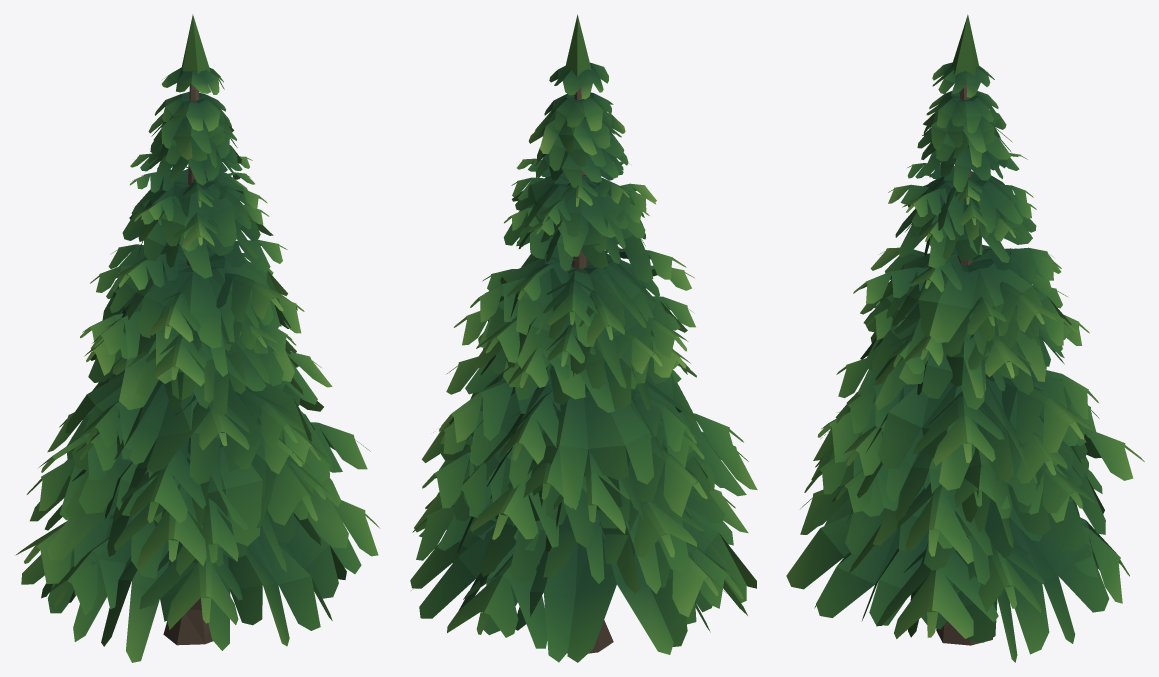
The model's file is spruce_L_normal_std_irregular_s21.glb.
3 renders of one model, left to right at view 1: azimuth 30°, elevation 25°; view 2: azimuth 150°, elevation 25°; view 3: azimuth 270°, elevation 25°, orthographic.
Visible parts, largest first — view 1: Tree; view 2: Tree; view 3: Tree.
Part boxes in pixels (x1,y1,x2,y2): Tree: (15,14,379,662); Tree: (410,14,757,662); Tree: (786,14,1144,662).
Size of what is drawn, in the model's own units: 4.35 by 7.98 by 4.19.
